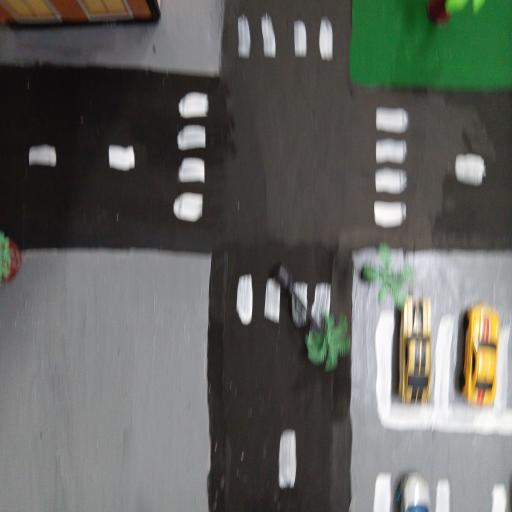fallen trees: (267, 256, 352, 374)
